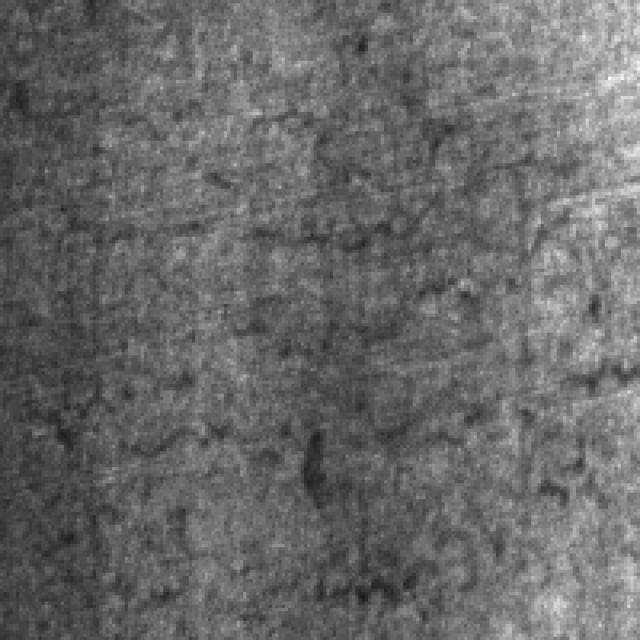crazing: (45, 105, 496, 458)
